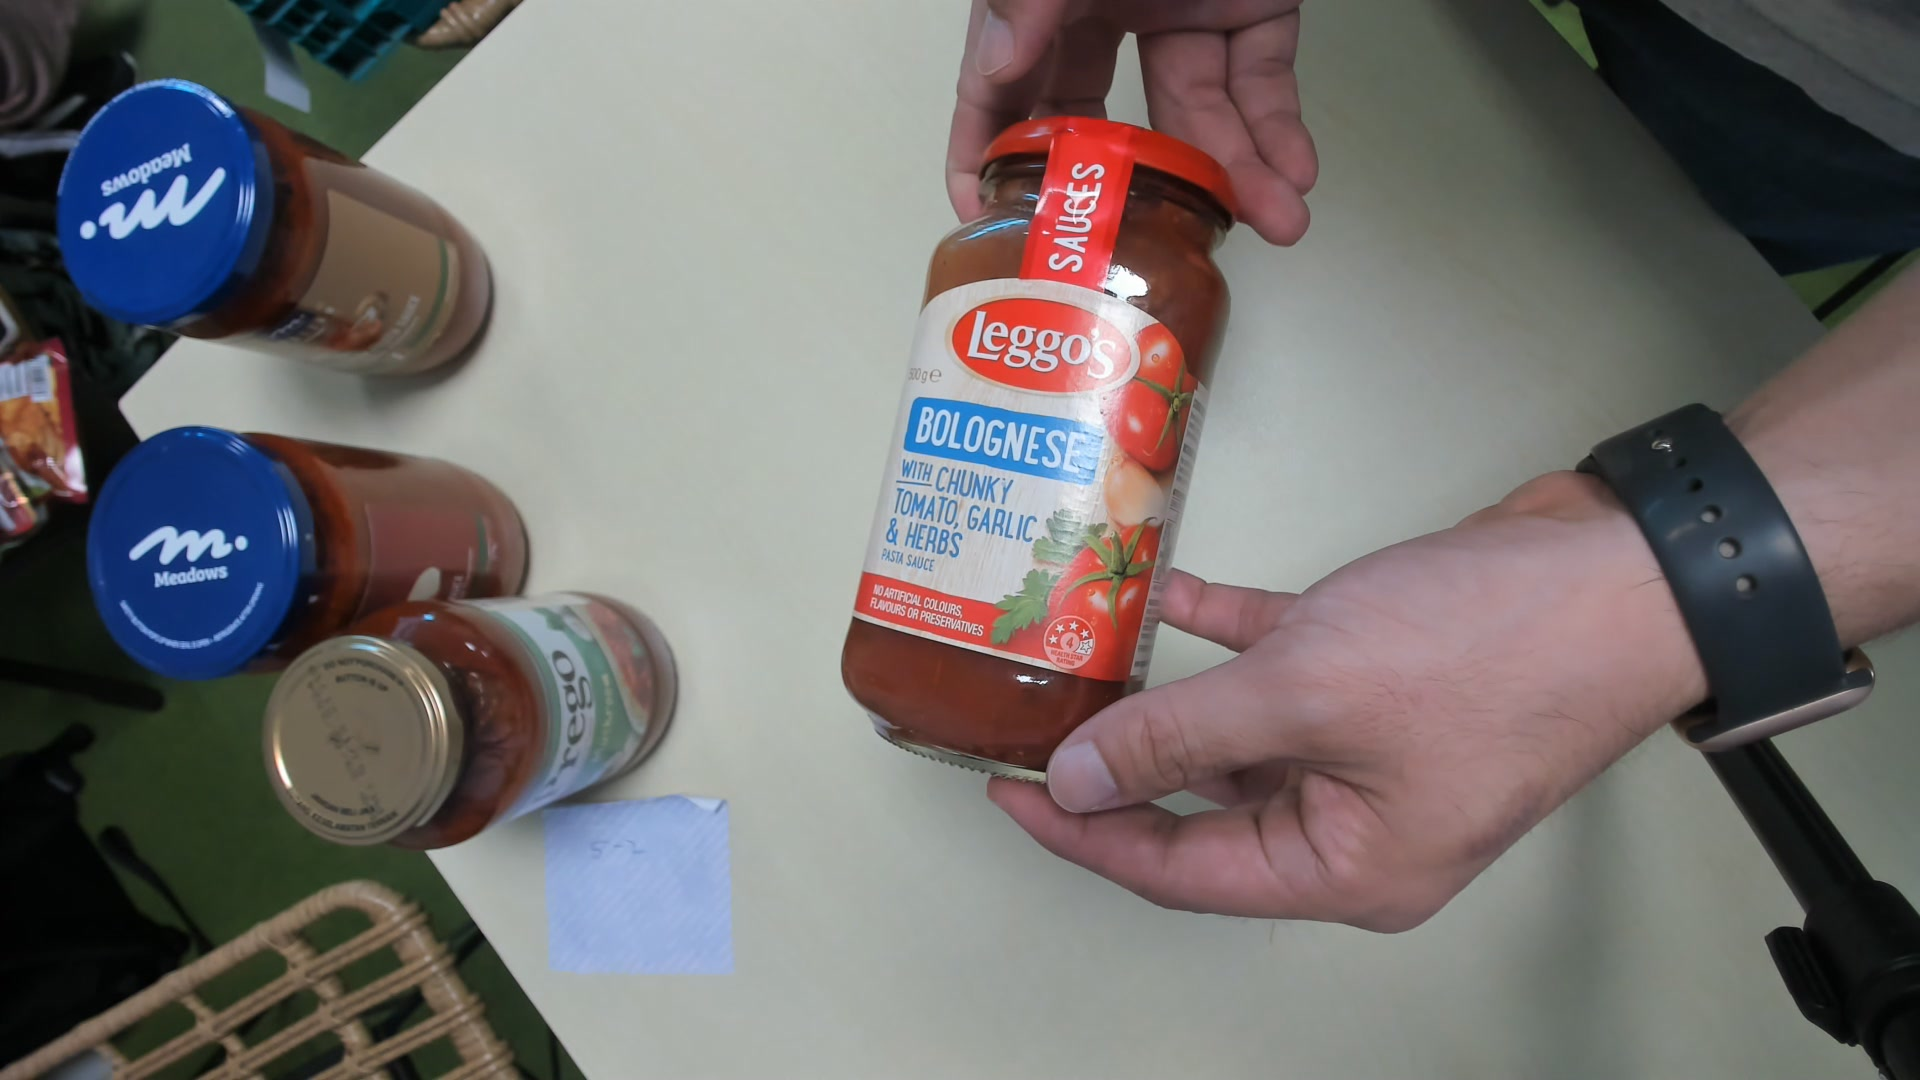PastaSauce_500-599g_Halal_NonHealthy: (847, 113, 1241, 799)
